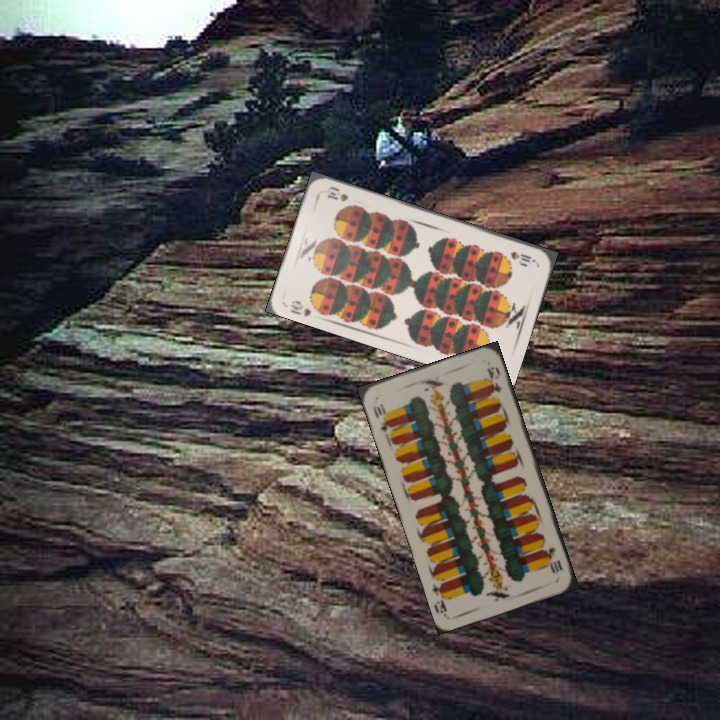E10: (539, 540, 565, 576), (368, 399, 394, 435)
S10: (286, 296, 314, 319), (506, 247, 539, 265)
